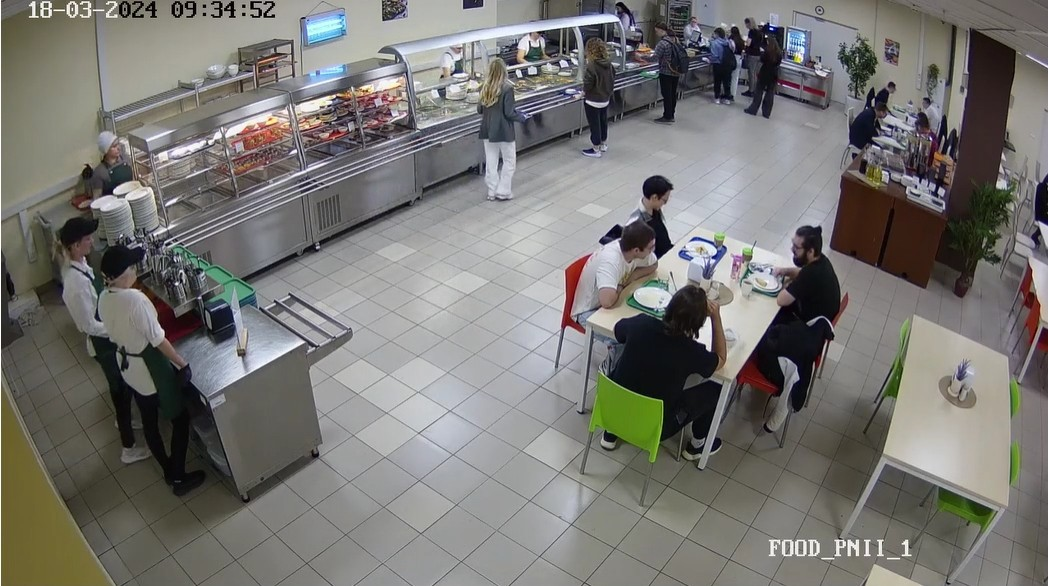Na_Kasse: (753, 23, 780, 122), (705, 32, 729, 103), (724, 12, 743, 88), (741, 7, 757, 84)
Personal: (90, 243, 195, 486), (54, 221, 149, 468), (86, 123, 134, 192), (432, 27, 473, 80), (513, 16, 549, 64), (611, 0, 636, 33), (684, 12, 703, 41)
Vybiraet: (471, 55, 519, 216), (570, 33, 620, 157), (647, 16, 682, 122)
Za_Stolom: (581, 291, 729, 479), (555, 219, 663, 381), (768, 222, 849, 327), (839, 102, 880, 168), (637, 170, 675, 237), (1024, 169, 1048, 241), (904, 112, 946, 149), (865, 80, 904, 110), (918, 88, 938, 113)
